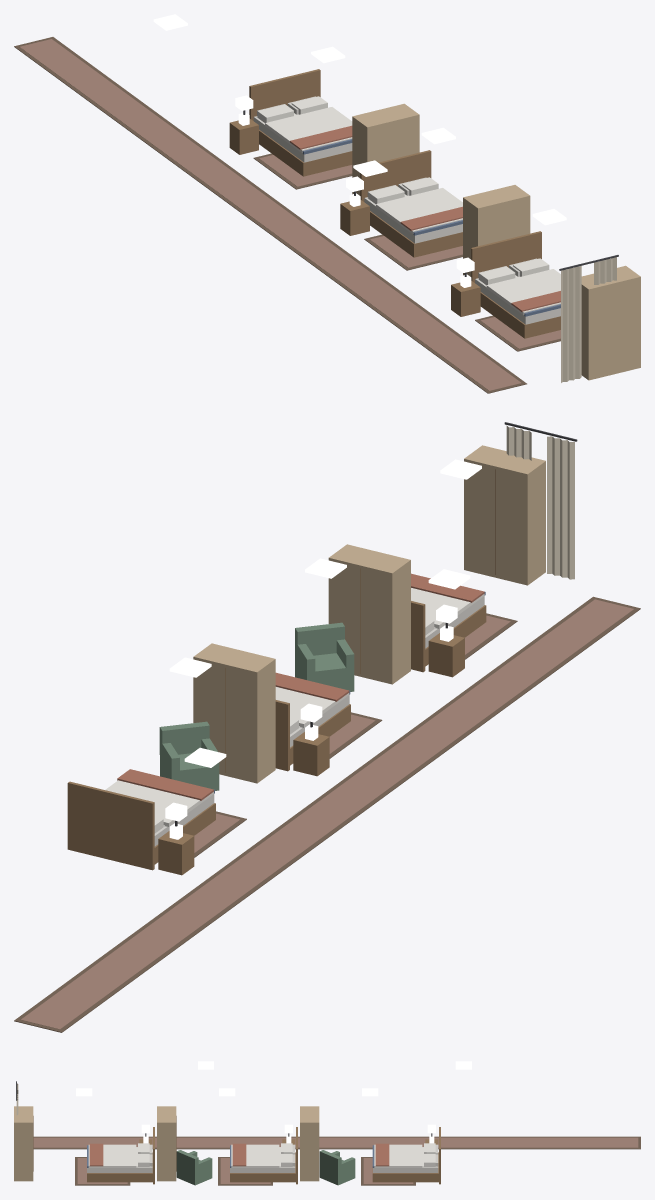
The model's file is fine-s2.glb.
The picture shows the model from 3 angles, top to bottom: view 1: azimuth 30°, elevation 25°; view 2: azimuth 150°, elevation 25°; view 3: azimuth 270°, elevation 25°; orthographic projection. The views are drawn at different scales.
Visible parts, largest first — view 1: soft-s2, dresser.005, bed-frame.003, bed-frame.004, bed-frame.005, dresser.004, dresser.003, nightstand.003, nightstand.005, nightstand.004; view 2: soft-s2, dresser.005, dresser.004, dresser.003, bed-frame.003, lounge-chair.003, lounge-chair.002, bed-frame.004, bed-frame.005, nightstand.004, nightstand.005, nightstand.003; view 3: soft-s2, dresser.003, dresser.004, dresser.005, bed-frame.003, bed-frame.005, bed-frame.004, lounge-chair.003, lounge-chair.002.
Boxes of the visible parts, x1,y1,x2,y2 form: soft-s2: (14,37,618,393); dresser.005: (581,265,640,380); bed-frame.003: (249,69,352,176); bed-frame.004: (360,150,462,257); bed-frame.005: (471,231,560,338); dresser.004: (463,185,530,276); dresser.003: (352,103,419,195); nightstand.003: (229,112,258,154); nightstand.005: (451,274,480,316); nightstand.004: (340,193,369,235); soft-s2: (14,422,640,1032); dresser.005: (464,445,545,585); dresser.004: (328,544,410,684); dresser.003: (193,643,275,783); bed-frame.003: (67,781,215,870); lounge-chair.003: (295,622,354,691); lounge-chair.002: (159,721,219,790); bed-frame.004: (275,690,350,771); bed-frame.005: (411,592,486,672); nightstand.004: (293,724,329,776); nightstand.005: (428,625,464,677); nightstand.003: (158,823,194,875); soft-s2: (16,1081,640,1185); dresser.003: (300,1106,319,1181); dresser.004: (157,1106,176,1181); dresser.005: (14,1106,33,1181); bed-frame.003: (372,1127,440,1184); bed-frame.005: (87,1127,154,1184); bed-frame.004: (230,1127,297,1184); lounge-chair.003: (176,1150,212,1185); lounge-chair.002: (319,1150,355,1185).
Size of the model in its own units: 3.55 by 2.67 by 19.33.
